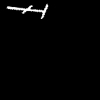double_crochet: (7, 5, 47, 18)
